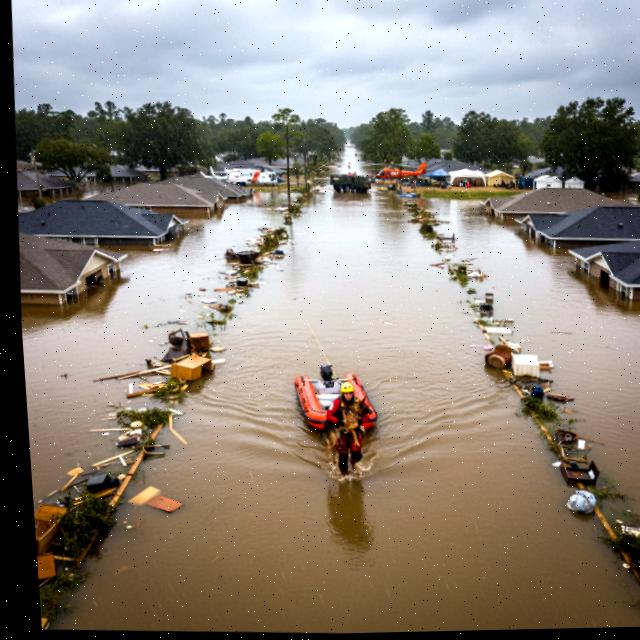dog: (325, 386, 380, 466)
rescuer: (313, 373, 379, 479)
